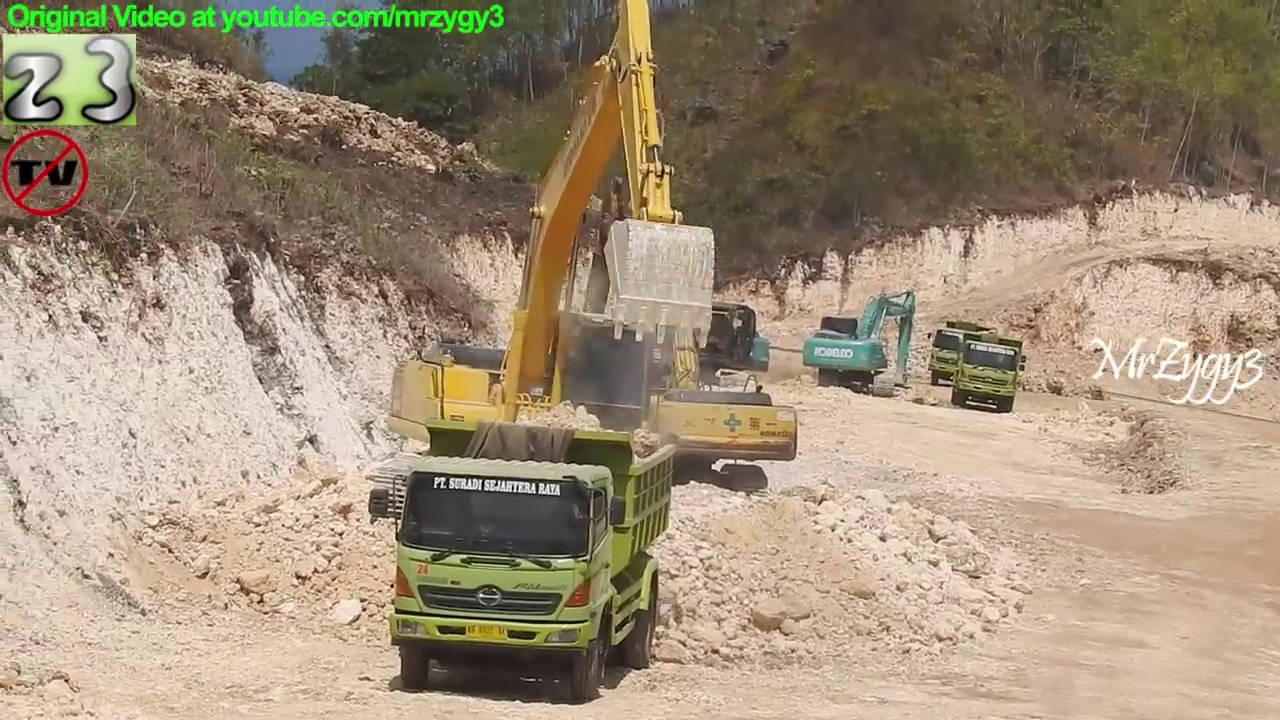excavator: (365, 1, 723, 536), (515, 174, 805, 505), (561, 189, 785, 410), (802, 281, 922, 400)
truck: (367, 409, 678, 703), (948, 330, 1030, 417), (924, 316, 1002, 392)
